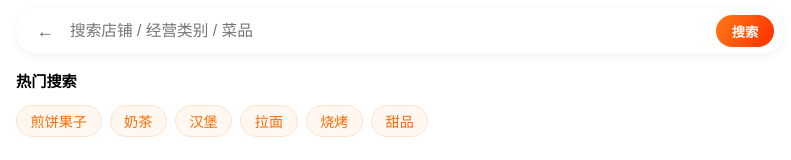
Test: 按经营类别和商品名称搜索店铺 › 无匹配结果时展示明确空状态
Step 1. Type "不存在的商品" into the search field with test id "search-input" → (388, 31), box [68,21,708,41]
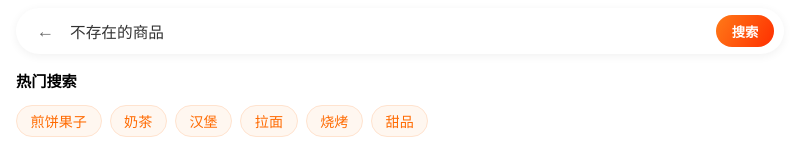
Step 2. Click the button with test id "search-submit" → (745, 31), box [716,15,774,47]
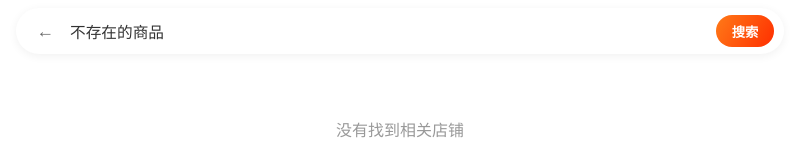
Expected: the text with test id "search-empty" shows "没有找到", [336,122,464,138]
